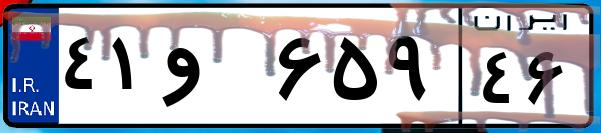1: (110, 28, 158, 98)
4: (57, 26, 110, 100), (475, 38, 525, 113)
5: (330, 28, 385, 110)
6: (270, 28, 330, 110), (525, 38, 570, 115)
9: (385, 28, 445, 110)
و: (158, 20, 270, 120)
